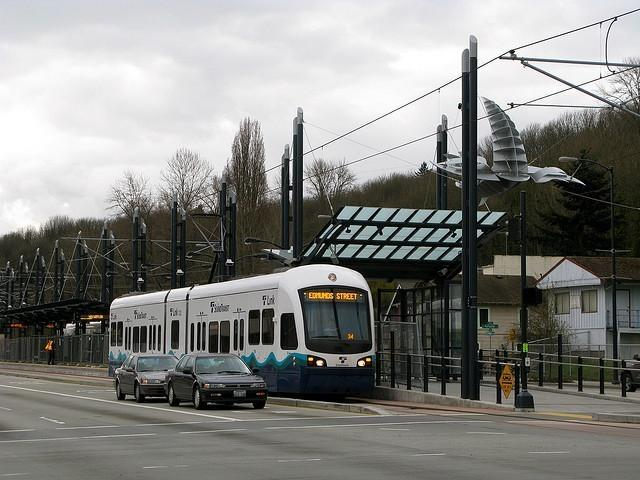bus: (106, 262, 376, 394)
car: (162, 352, 268, 410), (116, 352, 180, 404), (620, 362, 640, 392)
